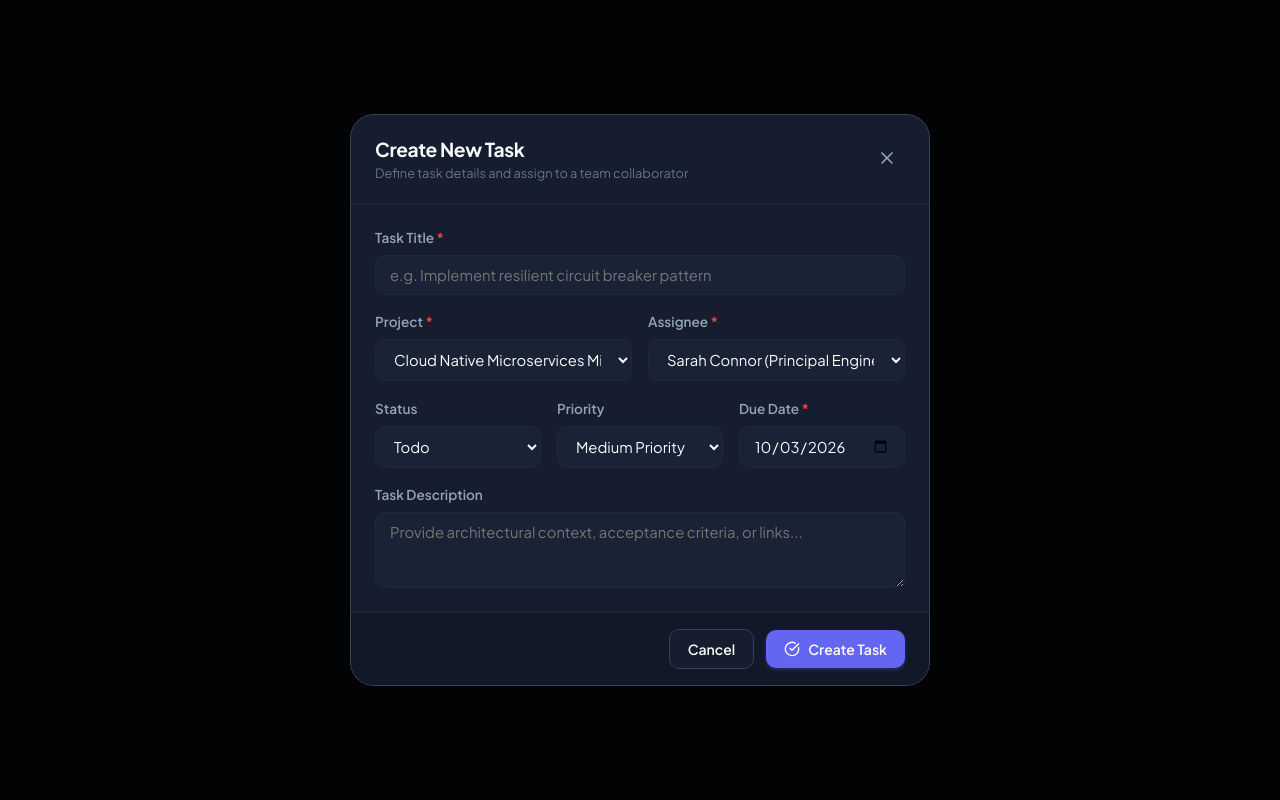
TaskForm Validation and Submission Experience › preserves entered form data when API submission fails
The image size is (1280, 800).
Type "Resilient Microservice Fallback" into the field labelled "Task Title *".
click(640, 275); type("Resilient Microservice Fallback")  # box [375,255,905,295]
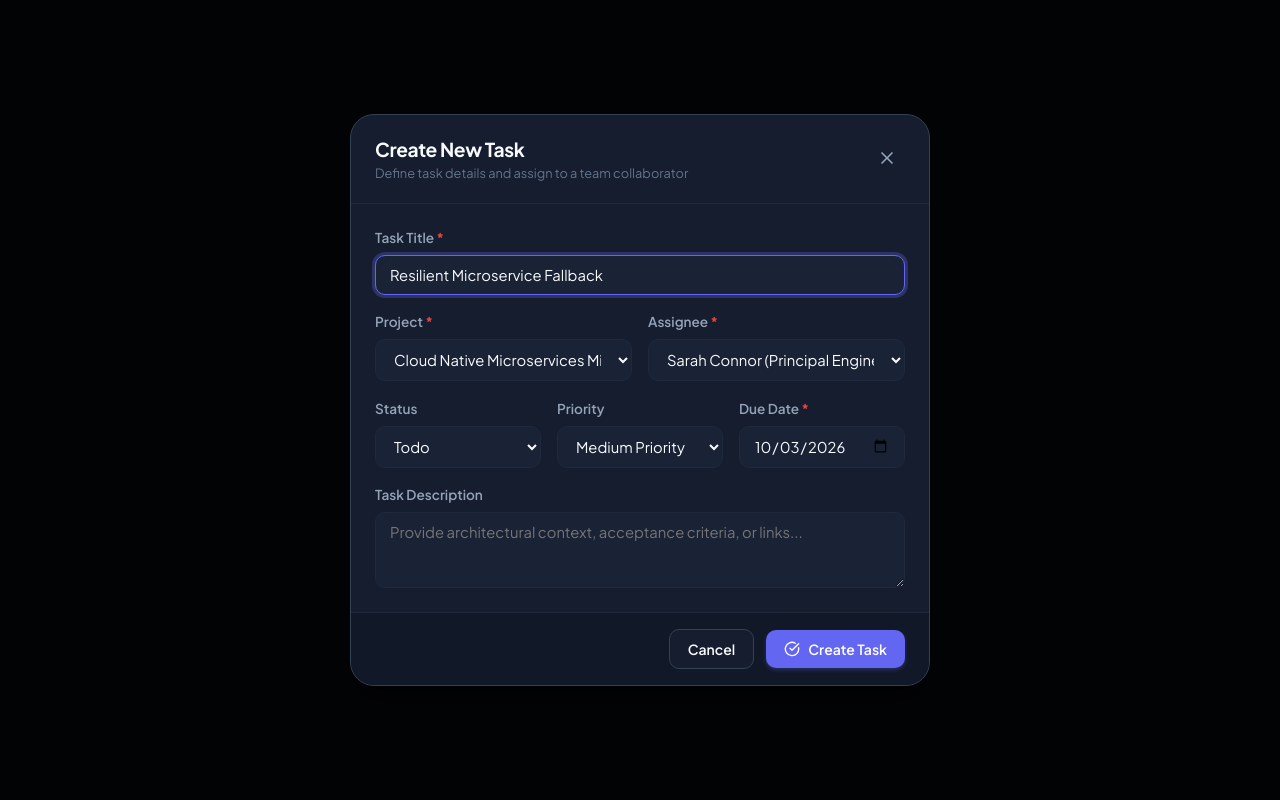
Click the button "Create Task".
click(836, 649)  # box [766,630,905,668]
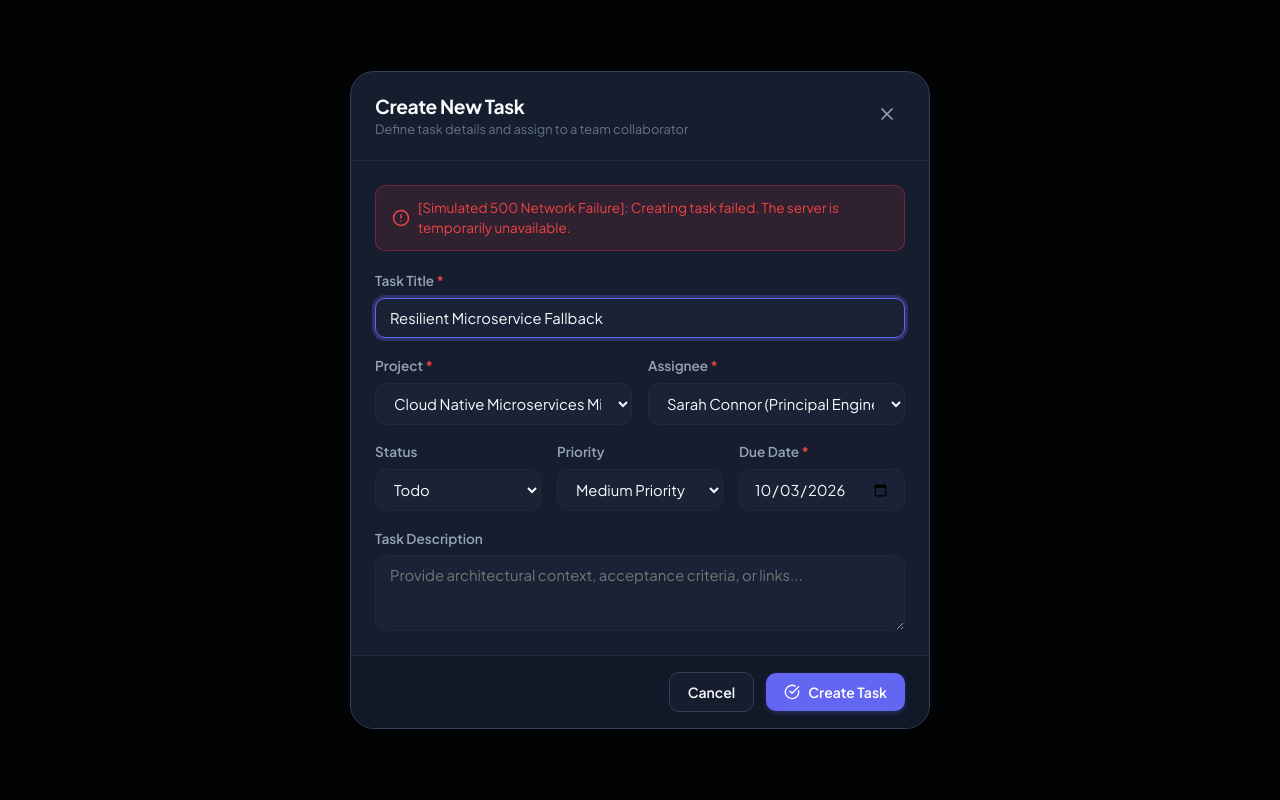
Result: the message is shown at [375,185,905,251]
